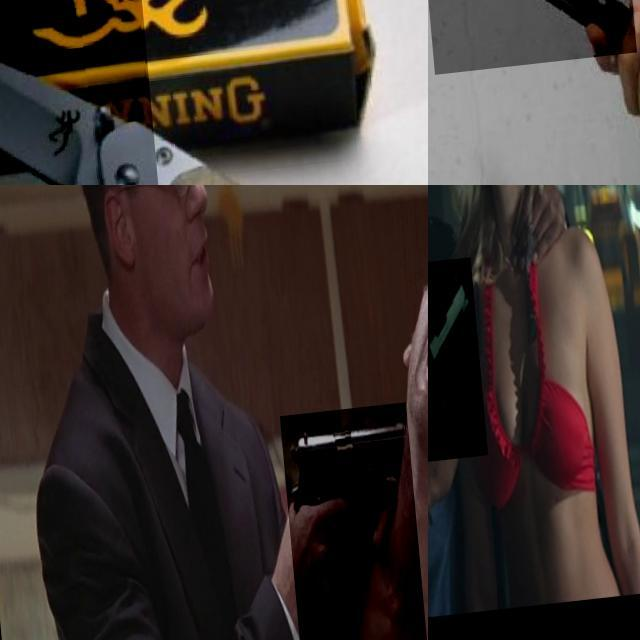-: (0, 0, 158, 185), (428, 0, 630, 91)
gun-knife-thesis - v11 Yolov5 augmented: (273, 412, 416, 640), (428, 265, 479, 471)
